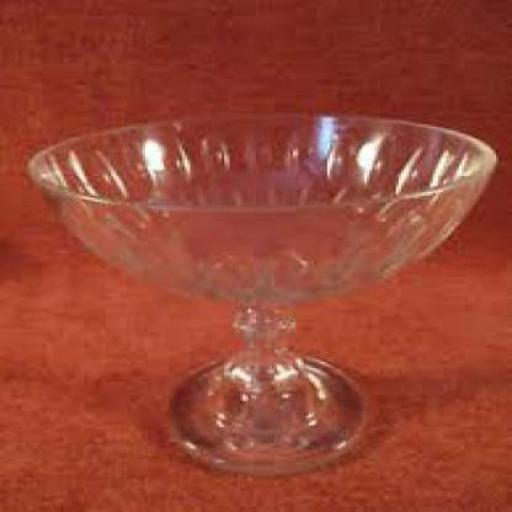glass: (26, 111, 491, 469)
